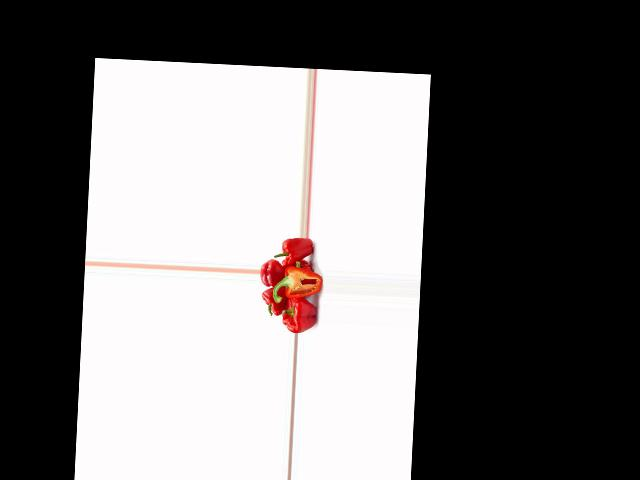bell_pepper: (260, 285, 286, 317)
